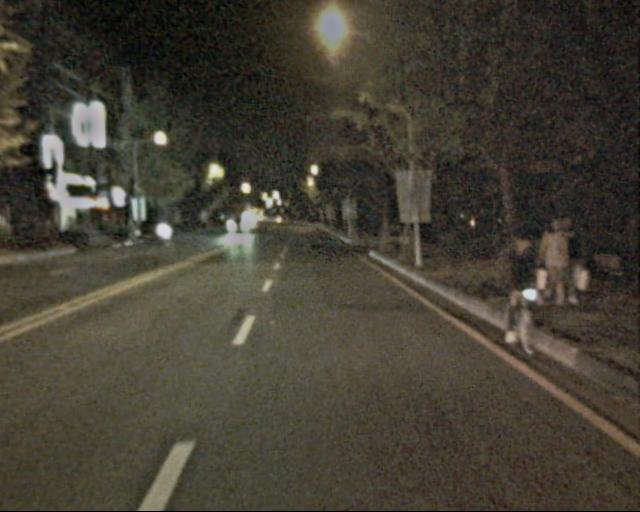person: (493, 235, 544, 348), (549, 216, 588, 302), (536, 218, 573, 306)
